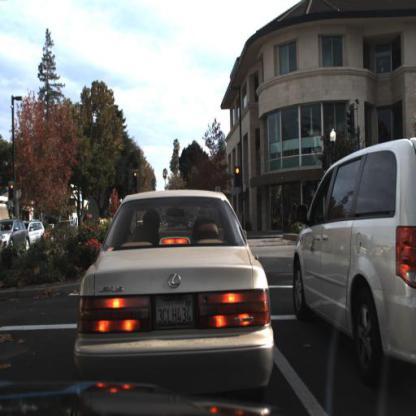car: (72, 186, 275, 388), (290, 127, 416, 383), (2, 219, 31, 253), (25, 219, 49, 250), (22, 220, 47, 248)
trafficLight-Red: (9, 183, 16, 203), (236, 167, 242, 188), (134, 170, 139, 189)
